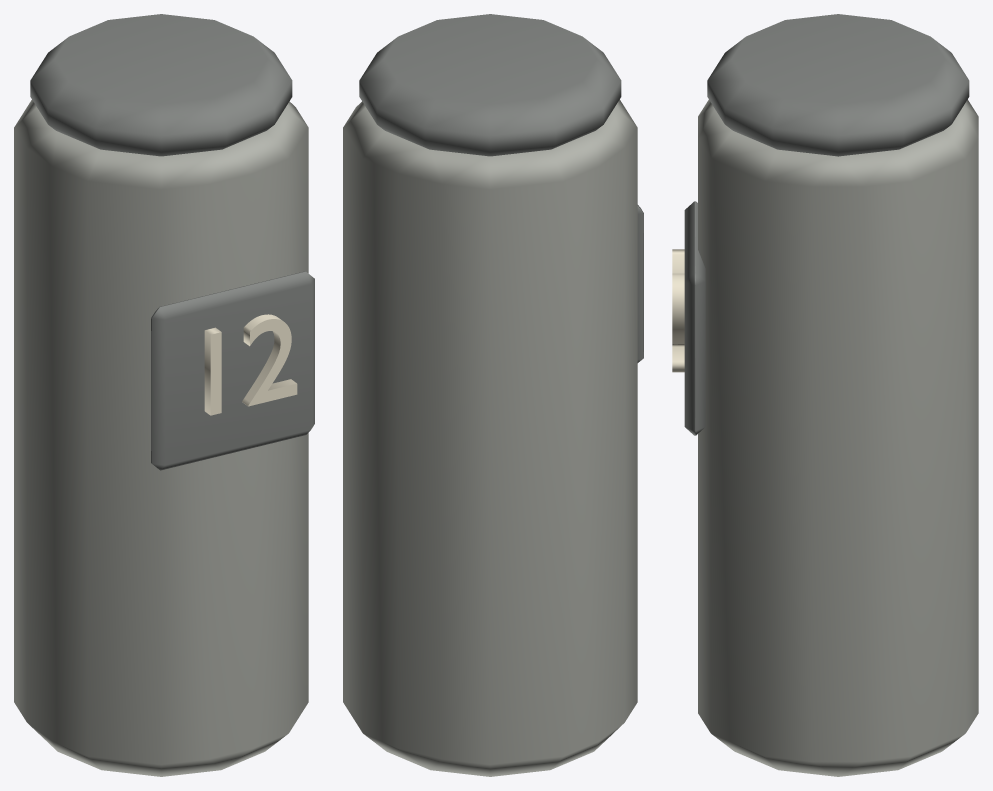
File: MYB96_KilometerMarker.fbx
The picture shows the model from 3 angles, left to right: view 1: azimuth 30°, elevation 25°; view 2: azimuth 150°, elevation 25°; view 3: azimuth 270°, elevation 25°; orthographic projection.
Visible parts, largest first — view 1: stone_bollard, top_cap.001, inset_plaque, km_text_Mesh; view 2: stone_bollard, top_cap.001, inset_plaque; view 3: stone_bollard, top_cap.001, inset_plaque, km_text_Mesh.
Part boxes in pixels (bbox=[...]): stone_bollard: bbox=[14, 100, 308, 776]; top_cap.001: bbox=[30, 14, 292, 156]; inset_plaque: bbox=[151, 271, 314, 470]; km_text_Mesh: bbox=[204, 314, 297, 415]; stone_bollard: bbox=[343, 99, 637, 776]; top_cap.001: bbox=[359, 14, 621, 156]; inset_plaque: bbox=[637, 205, 643, 362]; stone_bollard: bbox=[698, 99, 978, 776]; top_cap.001: bbox=[707, 14, 969, 156]; inset_plaque: bbox=[684, 201, 705, 435]; km_text_Mesh: bbox=[672, 249, 684, 372].
Bounding box in the file's own units: 34.32 × 90 × 37.46.
